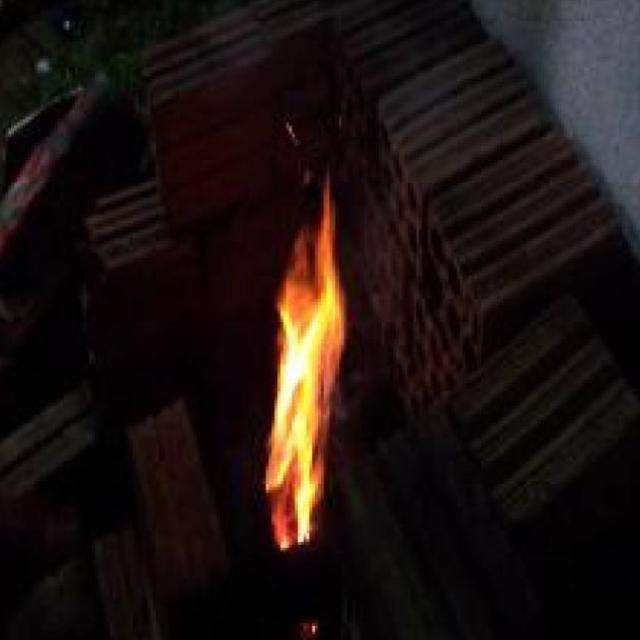smoke: (251, 165, 356, 552)
